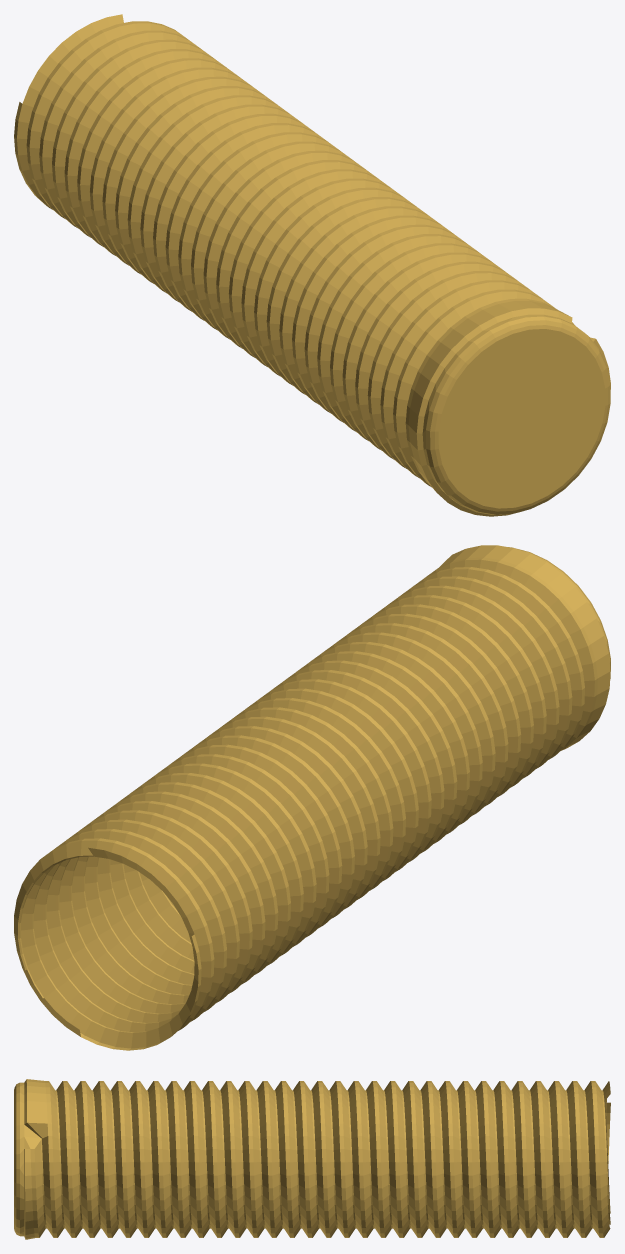
File: Bolt2.fbx
3 renders of one model, top to bottom at view 1: azimuth 30°, elevation 25°; view 2: azimuth 150°, elevation 25°; view 3: azimuth 270°, elevation 25°, orthographic. The views are drawn at different scales.
Visible parts, largest first — view 1: Цилиндр.026; view 2: Цилиндр.026; view 3: Цилиндр.026.
Boxes of the visible parts, x1,y1,x2,y2 form: Цилиндр.026: (14, 14, 610, 516); Цилиндр.026: (14, 545, 610, 1050); Цилиндр.026: (14, 1079, 610, 1239).
Size of the model in its own units: 0.841 by 0.8409 by 3.12.
